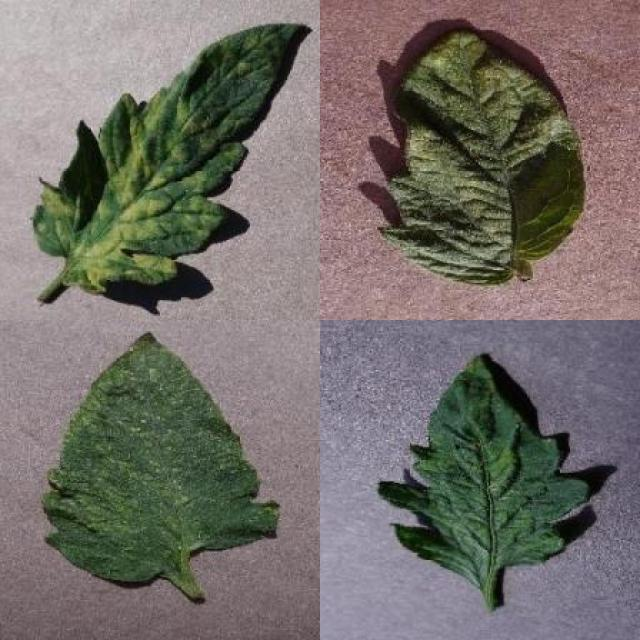Leaf Mold: (31, 20, 305, 299)
Mosaic Virus: (377, 350, 593, 590)
Spider Mites: (45, 329, 282, 585), (380, 27, 586, 286)
